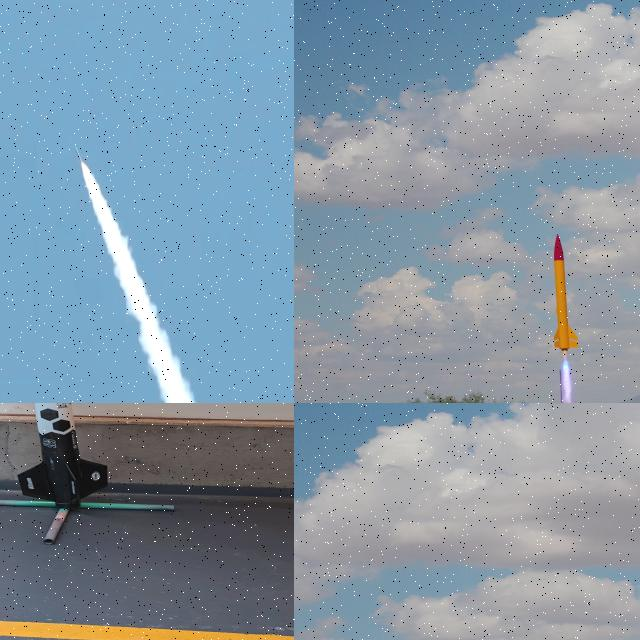Rocket: (17, 403, 108, 508), (553, 234, 579, 351), (74, 139, 85, 165)
